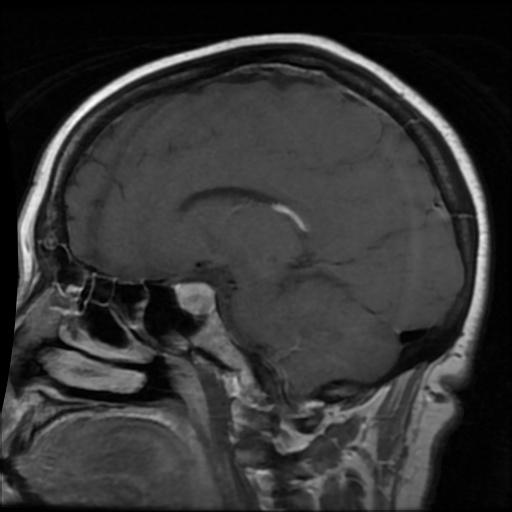pituitary: (173, 283, 215, 314)
